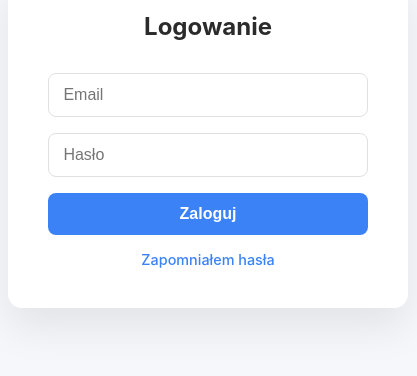
Test: Login › pokazuje błąd przy nieprawidłowych danych logowania
Type "test@test.com" into the field with placeholder "Email".
click(208, 95); type("test@test.com")  # box [48,73,368,117]
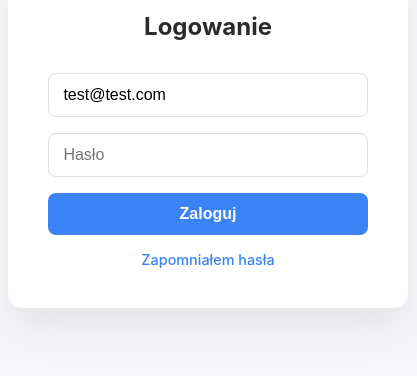
Type "wrongpass" into the password field with placeholder "Hasło".
click(208, 155); type("wrongpass")  # box [48,133,368,177]
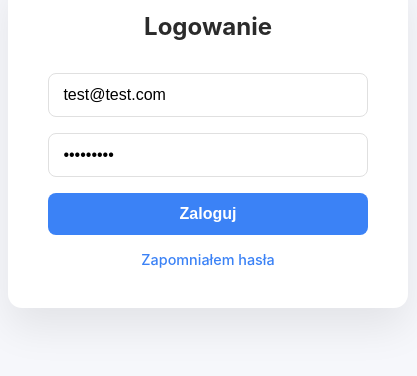
Click the button "Zaloguj".
click(208, 214)  # box [48,193,368,235]
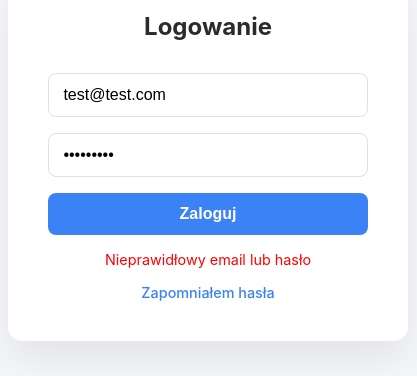
Expected: the text "Nieprawidłowy email lub hasło" is shown, [105,251,311,268]
